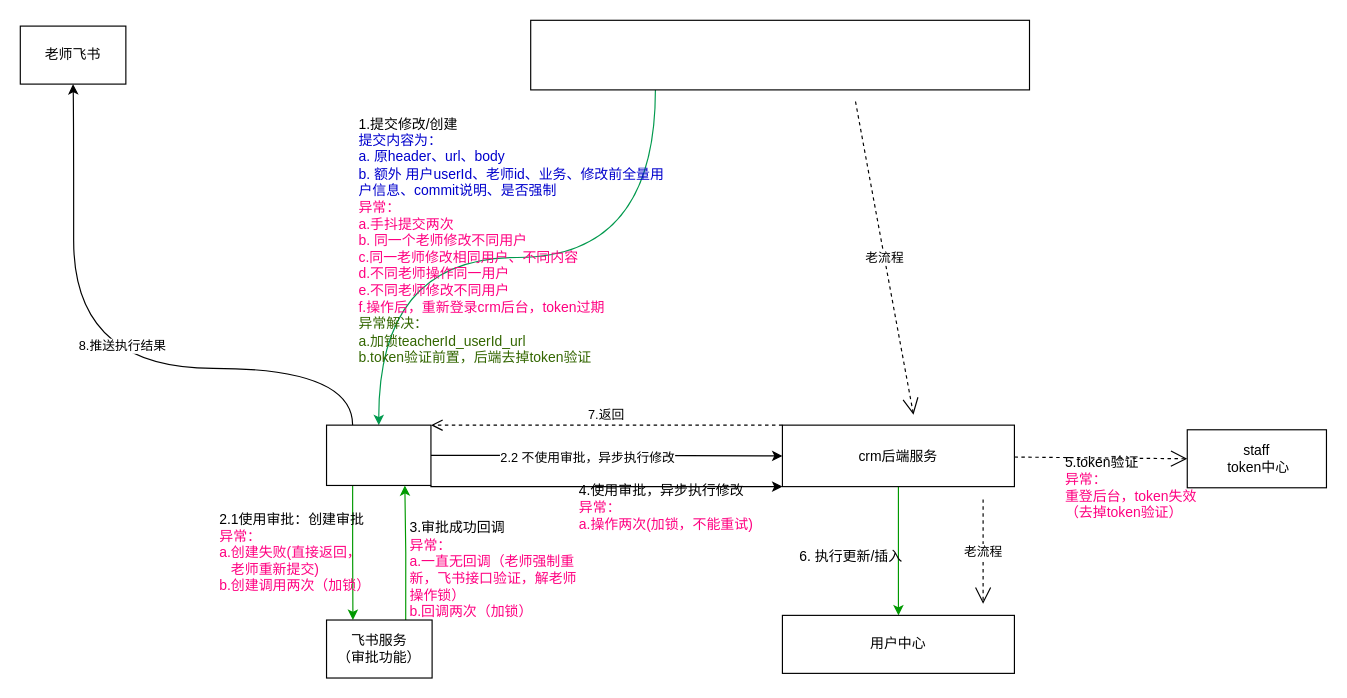
Image size: 1347x698. Some labels were removed from this diagram. The centre of each missing label's shape, as x and y in pixels:
"crm后台" goes at point 780,54.
"审批中心" goes at point 378,454.
